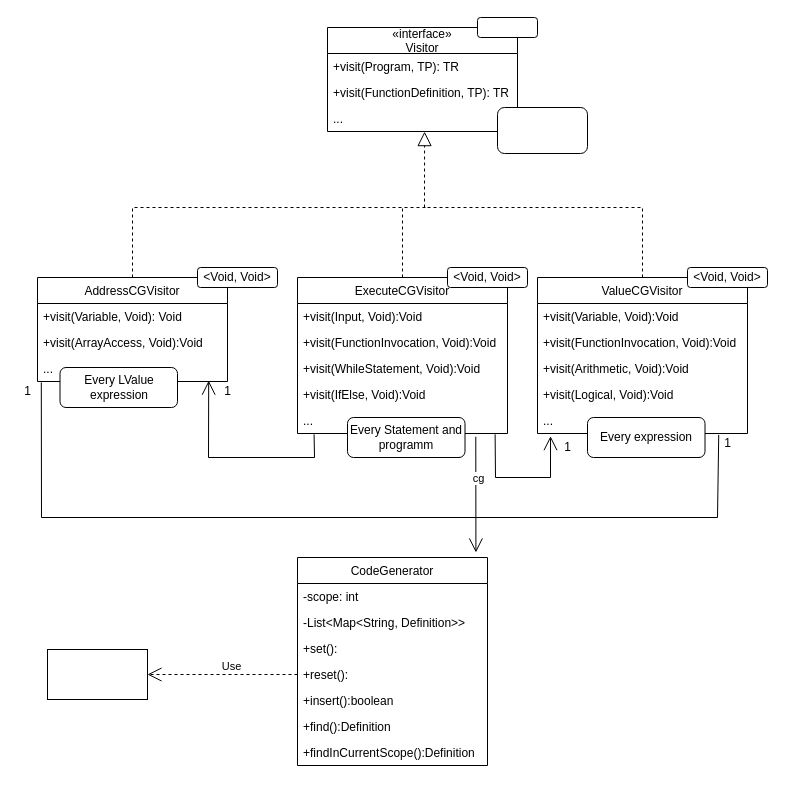
Some shapes in this 785 by 786 pixel diagram are drawn without their labels. The shapes that lost their labels are listed below. From the top down, each one's centre as x and y in pixels, then its label:
point (507, 27): <TP, TR>
point (542, 130): Every concrete ASTNode
point (97, 674): «interface» Type
